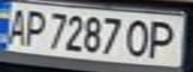2: (63, 11, 84, 53)
7: (42, 10, 69, 51), (100, 15, 127, 55)
8: (81, 12, 106, 54)
A: (0, 6, 30, 46)
O: (121, 17, 154, 59)
P: (142, 17, 187, 60), (18, 7, 48, 47)
